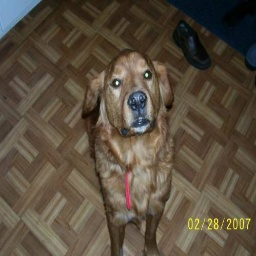dog: (77, 45, 183, 256)
